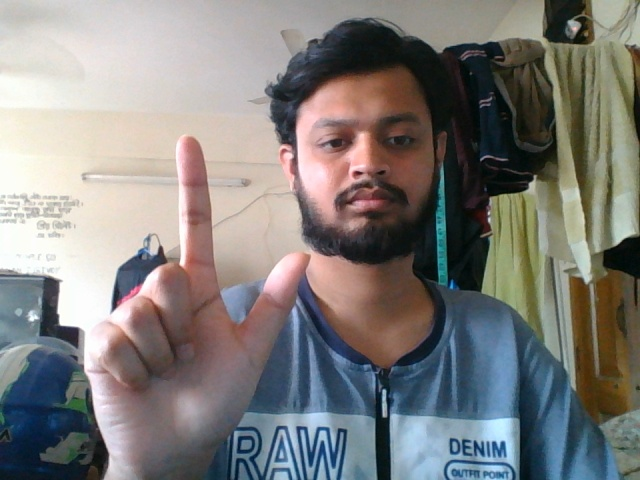la: (78, 131, 312, 480)
